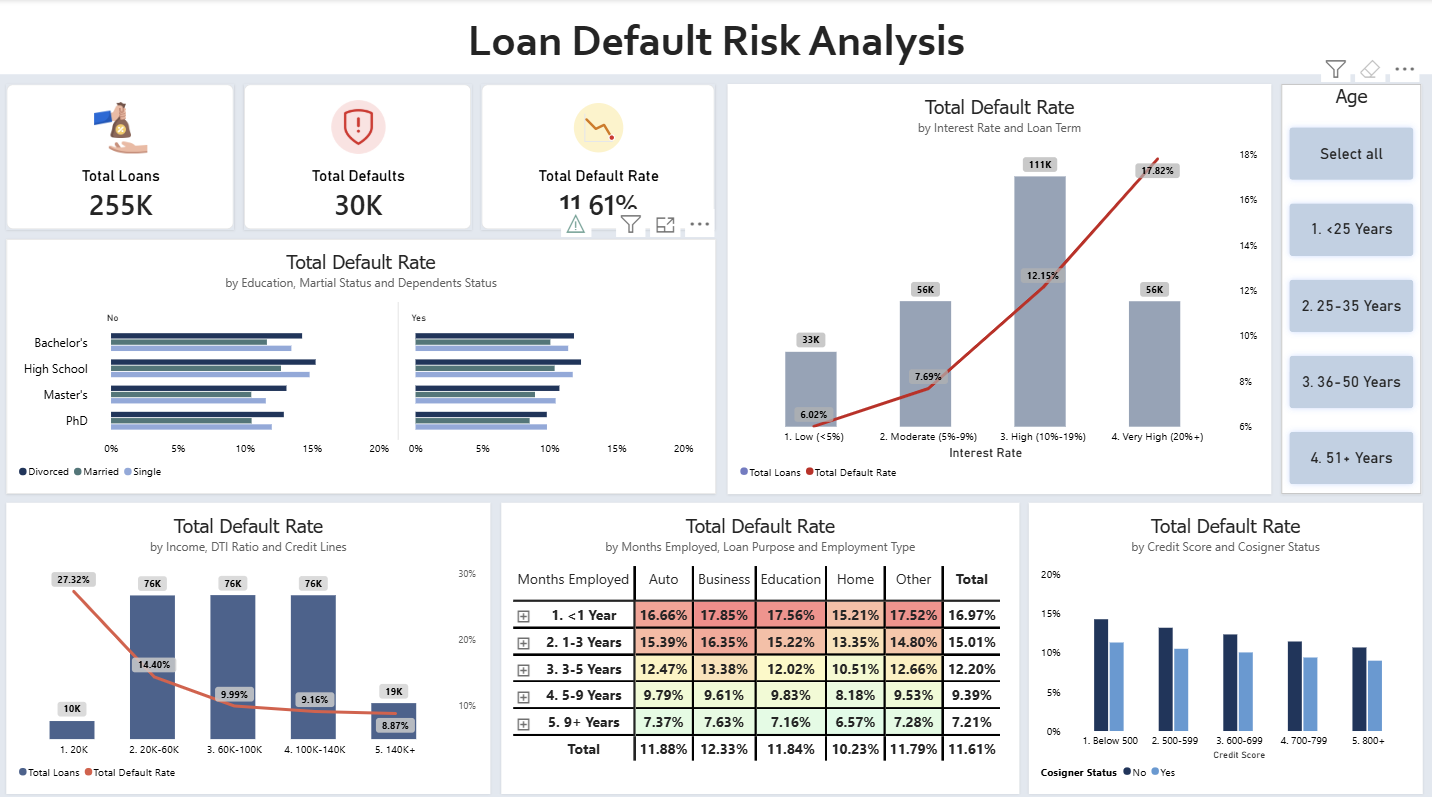

Layout of this report page (visuals, bound fields, positions):
{"tool":"powerbi","page":{"name":"Page 1","canvas":[1920,1080],"ordinal":0},"visuals":[{"type":"cardVisual","fields":{"Data":["loandefaultrisk_analysis loan_data.Total Loans"]},"box":[8.7,113.4,305.2,195.3],"z":0},{"type":"textbox","box":[1083.1,101.2,441.3,150],"z":1000},{"type":"shape","box":[0,0,1920.4,101.2],"z":2000},{"type":"textbox","box":[0,0,1920,99.9],"z":3000},{"type":"image","box":[111.6,136,99.4,73.3],"z":4000},{"type":"cardVisual","fields":{"Data":["loandefaultrisk_analysis loan_data.Total Defaults"]},"box":[326.2,113.4,305.2,195.3],"z":5000},{"type":"image","box":[427.3,132.6,106.4,78.5],"z":6000},{"type":"cardVisual","fields":{"Data":["loandefaultrisk_analysis loan_data.Total Default Rate"]},"box":[645.4,113.4,314,195.3],"z":7000},{"type":"image","box":[743,136,116.9,73.3],"z":8000},{"type":"lineClusteredColumnComboChart","title":"Total Default Rate","fields":{"Category":["loandefaultrisk_analysis loan_data.Income Bracket"],"Y":["loandefaultrisk_analysis loan_data.Total Loans"],"Y2":["loandefaultrisk_analysis loan_data.Total Default Rate"]},"box":[8.7,675,648.8,390.7],"z":9000},{"type":"clusteredColumnChart","title":"Total Default Rate","fields":{"Category":["loandefaultrisk_analysis loan_data.Credit Score"],"Series":["loandefaultrisk_analysis loan_data.Cosigner Status"],"Y":["loandefaultrisk_analysis loan_data.Total Default Rate"]},"box":[1378.5,675,527.6,390.3],"z":10000},{"type":"lineClusteredColumnComboChart","title":"Total Default Rate","fields":{"Category":["loandefaultrisk_analysis loan_data.Interest Rate","loandefaultrisk_analysis loan_data.LoanTerm"],"Y":["loandefaultrisk_analysis loan_data.Total Loans"],"Y2":["loandefaultrisk_analysis loan_data.Total Default Rate"]},"box":[975,113.4,729.1,549.4],"z":11000},{"type":"clusteredBarChart","title":"Total Default Rate","fields":{"Category":["loandefaultrisk_analysis loan_data.Education"],"Rows":["loandefaultrisk_analysis loan_data.HasDependents"],"Series":["loandefaultrisk_analysis loan_data.MartialStaus"],"Y":["loandefaultrisk_analysis loan_data.Total Default Rate"]},"box":[8.7,320.9,950.6,341.9],"z":12000},{"type":"pivotTable","title":"Total Default Rate","fields":{"Columns":["loandefaultrisk_analysis loan_data.LoanPurpose"],"Rows":["loandefaultrisk_analysis loan_data.Months Employed","loandefaultrisk_analysis loan_data.EmployementType"],"Values":["loandefaultrisk_analysis loan_data.Total Default Rate"]},"box":[671.5,675,694.2,390.7],"z":13000},{"type":"advancedSlicerVisual","title":"Age ","fields":{"Values":["loandefaultrisk_analysis loan_data.Age Tier"]},"box":[1716.3,113.4,188.4,549.4],"z":14000}]}

Visuals, with their boxes in screenshot pixels (x1, y1, x2, y2), scaled from the page's 1920x1080 canvas onto the 1432x797 screenshot:
cardVisual - loandefaultrisk_analysis loan_data.Total Loans: (6, 84, 234, 228)
textbox: (808, 75, 1137, 185)
shape: (0, 0, 1431, 75)
textbox: (0, 0, 1431, 74)
image: (83, 100, 157, 154)
cardVisual - loandefaultrisk_analysis loan_data.Total Defaults: (243, 84, 471, 228)
image: (319, 98, 398, 156)
cardVisual - loandefaultrisk_analysis loan_data.Total Default Rate: (481, 84, 716, 228)
image: (554, 100, 641, 154)
"Total Default Rate" lineClusteredColumnComboChart: (6, 498, 490, 786)
"Total Default Rate" clusteredColumnChart: (1028, 498, 1422, 786)
"Total Default Rate" lineClusteredColumnComboChart: (727, 84, 1271, 489)
"Total Default Rate" clusteredBarChart: (6, 237, 715, 489)
"Total Default Rate" pivotTable: (501, 498, 1019, 786)
"Age " advancedSlicerVisual: (1280, 84, 1421, 489)
